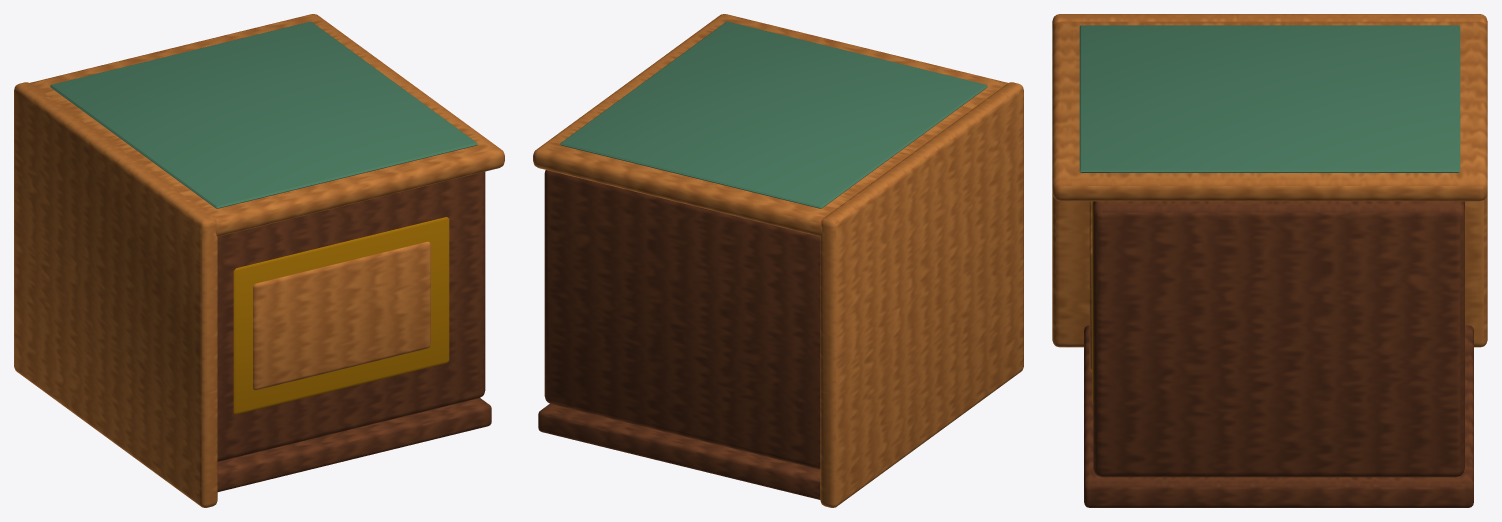
The model's file is counter_end_l.glb.
The picture shows the model from 3 angles, left to right: view 1: azimuth 30°, elevation 25°; view 2: azimuth 150°, elevation 25°; view 3: azimuth 270°, elevation 25°; orthographic projection. The views are drawn at different scales.
Visible parts, largest first — view 1: endcap, inlay, body, inner, top, inset, plinth; view 2: body, endcap, inlay, top, plinth; view 3: body, inlay, top, plinth, endcap, inner.
Boxes of the visible parts, x1=… form: endcap: x1=14, y1=82, x2=217, y2=507; inlay: x1=50, y1=21, x2=477, y2=208; body: x1=217, y1=171, x2=485, y2=461; inner: x1=253, y1=241, x2=430, y2=390; top: x1=30, y1=14, x2=504, y2=236; inset: x1=233, y1=217, x2=449, y2=414; plinth: x1=217, y1=398, x2=491, y2=491; body: x1=544, y1=170, x2=820, y2=469; endcap: x1=820, y1=82, x2=1023, y2=507; inlay: x1=560, y1=21, x2=987, y2=208; top: x1=533, y1=14, x2=1007, y2=236; plinth: x1=538, y1=404, x2=820, y2=499; body: x1=1093, y1=201, x2=1464, y2=477; inlay: x1=1079, y1=25, x2=1460, y2=172; top: x1=1052, y1=21, x2=1487, y2=201; plinth: x1=1084, y1=325, x2=1473, y2=507; endcap: x1=1052, y1=14, x2=1487, y2=347; inner: x1=1089, y1=201, x2=1092, y2=371.
Bounding box in the file's own units: 0.4425 × 0.4015 × 0.48.
Materials: 4 (2 with a texture image).
